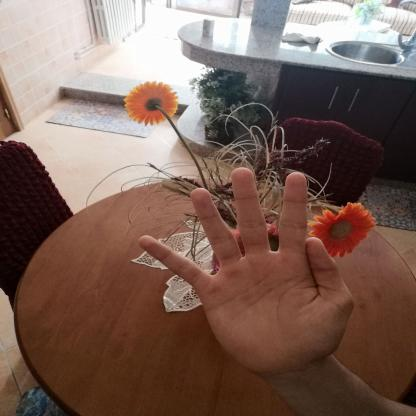SHEEN: (123, 159, 362, 384)
